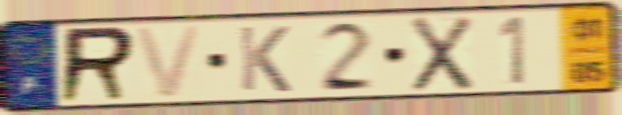1: (495, 14, 529, 88)
2: (311, 21, 378, 93)
K: (235, 24, 294, 95)
R: (55, 24, 139, 106)
V: (131, 23, 207, 100)
X: (408, 13, 476, 94)
